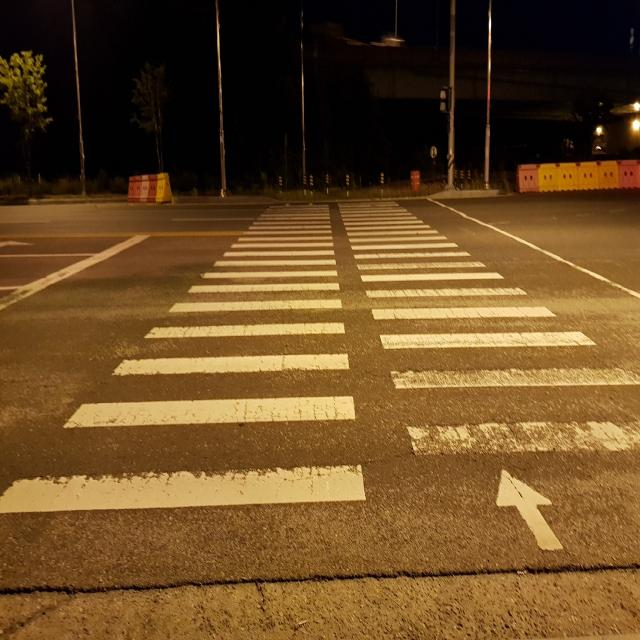횡단보도: (0, 194, 640, 555)
